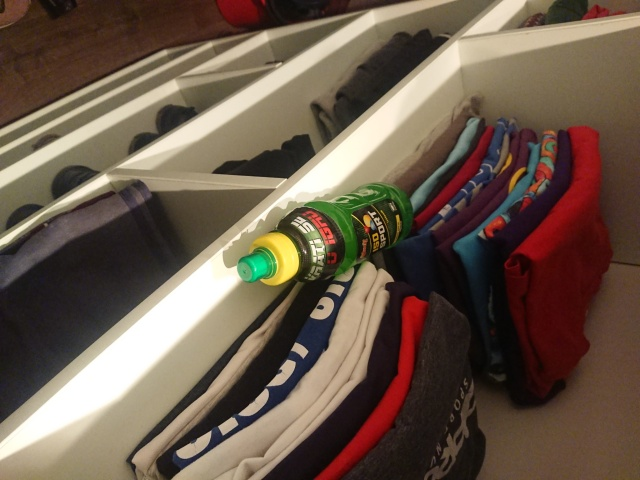Vindi Iso Sport Lemon-Grapefruit 500mL: (234, 179, 417, 289)
